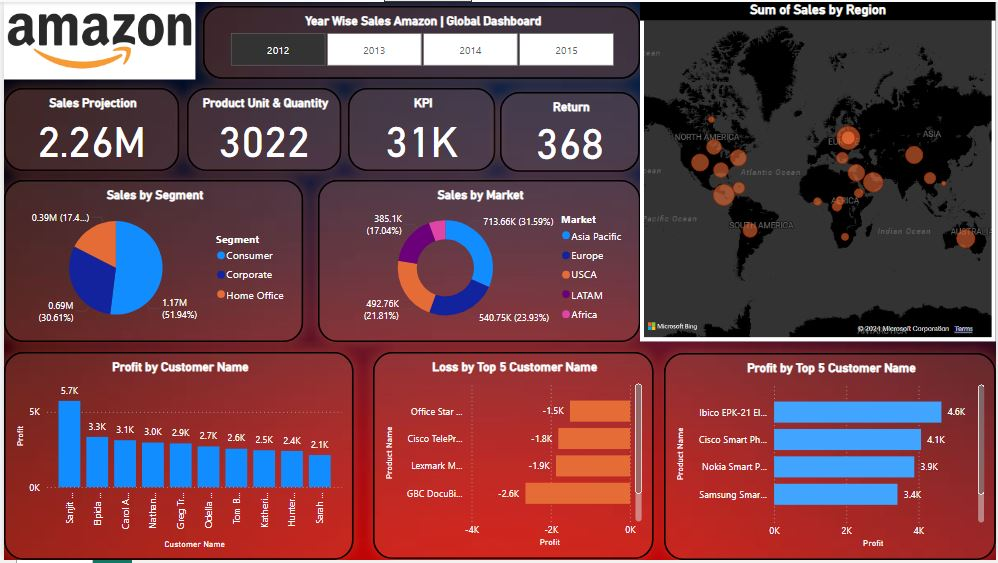

This screenshot's page, from the dashboard's own definition file:
{"tool":"powerbi","page":{"name":"Page 1","canvas":[1280,720],"ordinal":0},"visuals":[{"type":"slicer","title":"Year Wise Sales Amazon | Global Dashboard","fields":{"Values":["Orders.Year"]},"box":[257.1,5.7,564.3,94.3],"z":0},{"type":"card","title":"Sales Projection","fields":{"Values":["Orders.Sales"]},"box":[0,111.4,225.7,107.1],"z":1000},{"type":"image","box":[0,0,247.1,100],"z":2000},{"type":"card","title":"Product Unit & Quantity","fields":{"Values":["Orders.Product Name"]},"box":[235.7,111.4,198.6,107.1],"z":3000},{"type":"card","title":"KPI","fields":{"Values":["Orders.Quantity"]},"box":[444.3,111.4,190,107.1],"z":4000},{"type":"card","title":"Return","fields":{"Values":["Orders.Ship Date"]},"box":[640,115.7,180,102.9],"z":5000},{"type":"pieChart","title":"Sales by Segment","fields":{"Category":["Orders.Segment"],"Y":["Orders.Sales"]},"box":[0,230,385.7,208.6],"z":6000},{"type":"donutChart","title":"Sales by Market","fields":{"Category":["Orders.Market"],"Y":["Orders.Sales"]},"box":[405.7,230,415.7,208.6],"z":7000},{"type":"clusteredColumnChart","title":"Profit by Customer Name","fields":{"Y":["Orders.Profit"],"Category":["Orders.Customer Name"]},"box":[0,451.4,451.4,268.4],"z":8000},{"type":"barChart","title":"Loss by Top 5 Customer Name","fields":{"Category":["Orders.Product Name"],"Y":["Orders.Profit"]},"box":[476.7,451.7,361.7,266.7],"z":9000},{"type":"barChart","title":"Profit by Top 5 Customer Name","fields":{"Category":["Orders.Product Name"],"Y":["Orders.Profit"]},"box":[851.7,453.3,428.3,266.7],"z":10000},{"type":"map","fields":{"Category":["Orders.Region"],"Size":["Orders.Sales"]},"box":[820.6,0,459.2,438],"z":11000}]}

Visuals, with their boxes in screenshot pixels (x1, y1, x2, y2), scaled from the page's 1280x720 canvas onto the 998x563 screenshot:
"Year Wise Sales Amazon | Global Dashboard" slicer: (200, 4, 640, 78)
"Sales Projection" card: (0, 87, 176, 171)
image: (0, 0, 193, 78)
"Product Unit & Quantity" card: (184, 87, 339, 171)
"KPI" card: (346, 87, 495, 171)
"Return" card: (499, 90, 639, 171)
"Sales by Segment" pieChart: (0, 180, 301, 343)
"Sales by Market" donutChart: (316, 180, 640, 343)
"Profit by Customer Name" clusteredColumnChart: (0, 353, 352, 562)
"Loss by Top 5 Customer Name" barChart: (372, 353, 654, 562)
"Profit by Top 5 Customer Name" barChart: (664, 354, 997, 562)
map - Orders.Region x Orders.Sales: (640, 0, 997, 342)
